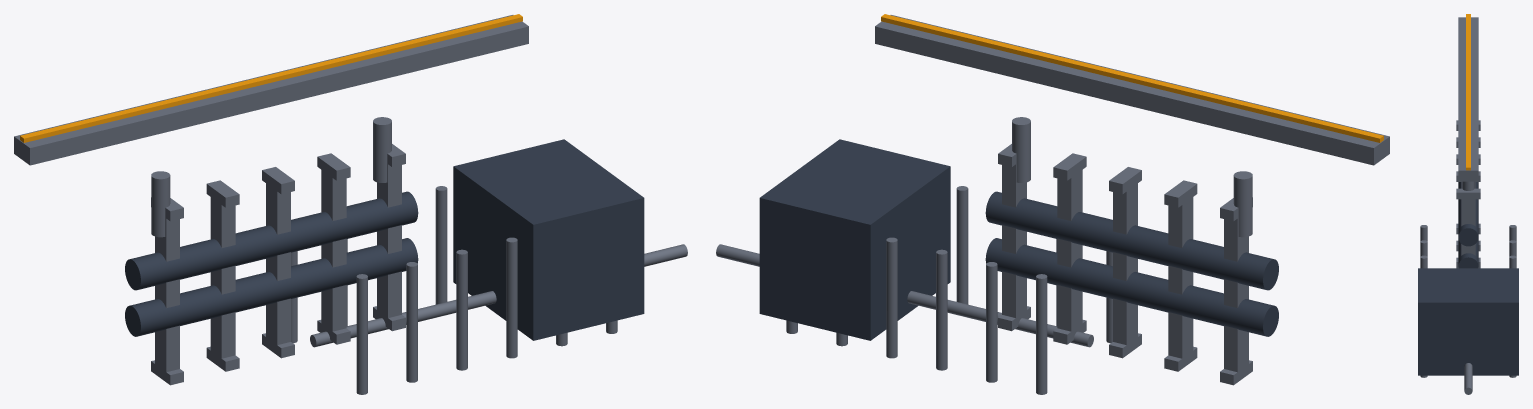
Rendered from rolling_mill.glb.
The picture shows the model from 3 angles, left to right: view 1: azimuth 30°, elevation 25°; view 2: azimuth 150°, elevation 25°; view 3: azimuth 270°, elevation 25°; orthographic projection. The views are drawn at different scales.
Size of the model in its own units: 23.9 by 10.48 by 5.
